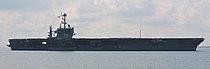MIL_Ship: (5, 12, 204, 52)
